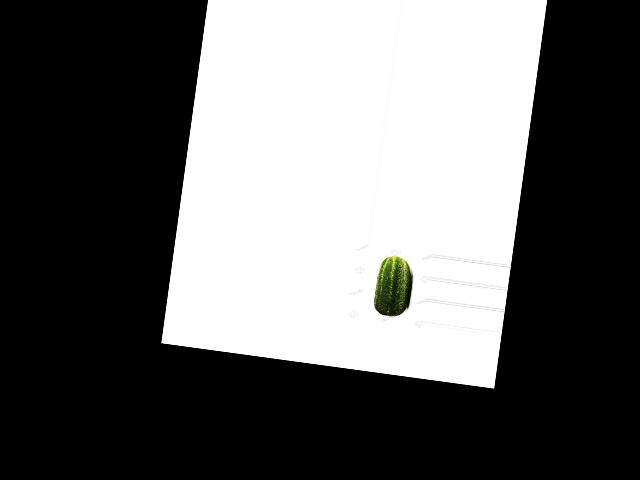cucumber: (372, 255, 414, 319)
